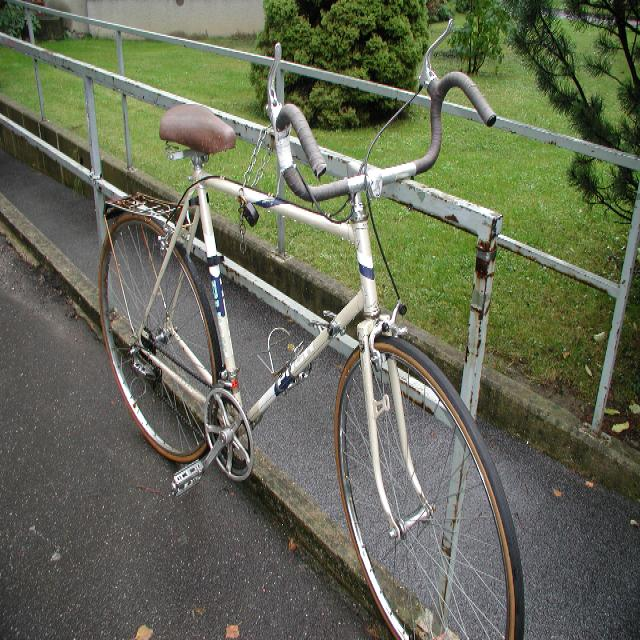bicycle: (97, 17, 525, 639)
